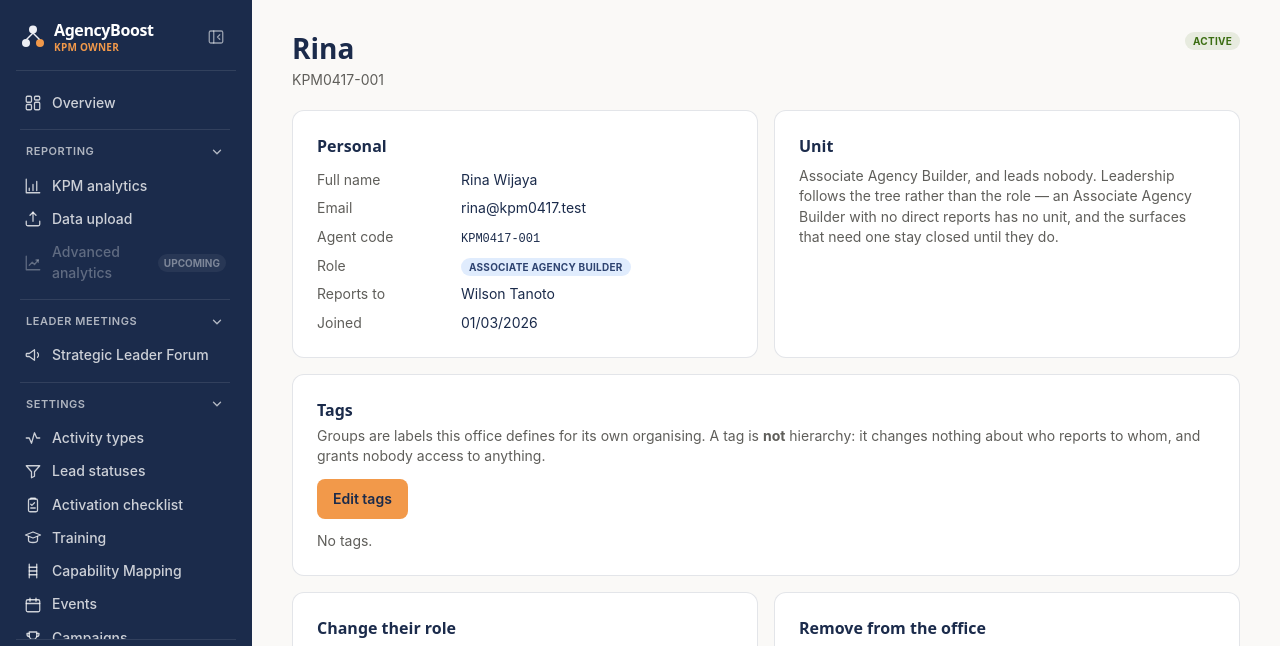
Test case: one member › tags (P3-T9) › points at where groups are made when there are none
The width and height of the screenshot is (1280, 646).
Click the button "Edit tags" at {"x": 362, "y": 499}, box [317,479,408,519]
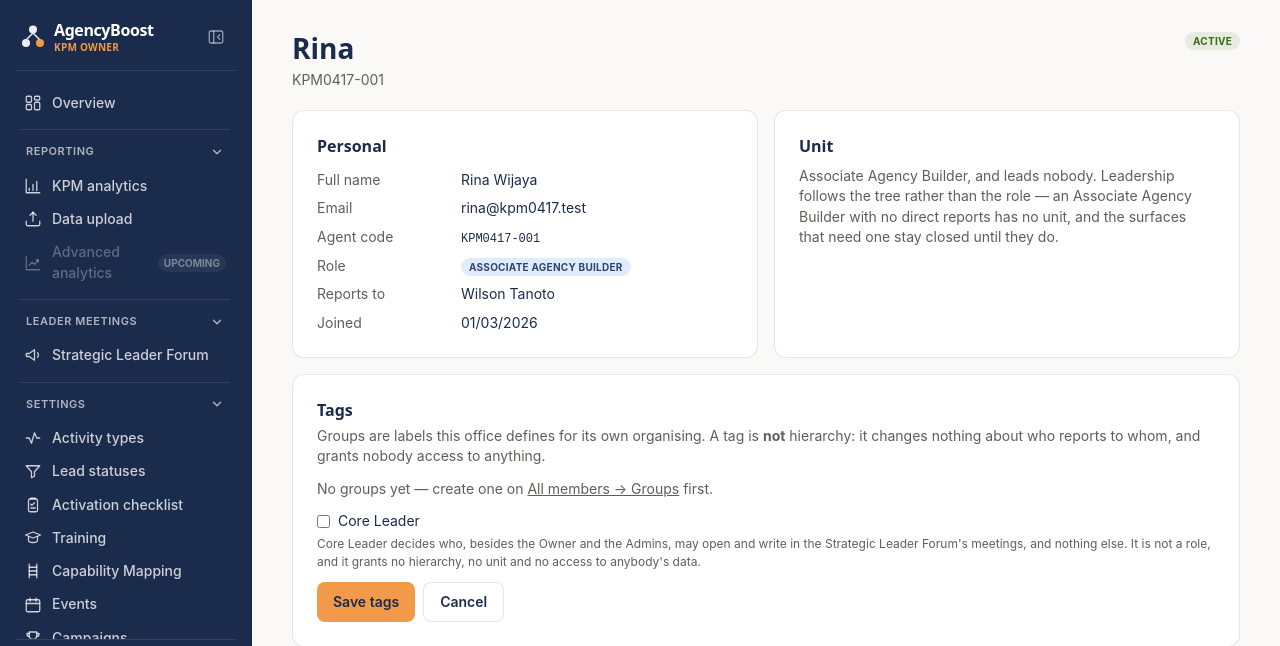
Check: the text "No groups yet — create one on All members → Groups first." is shown, box [317,480,713,497]
